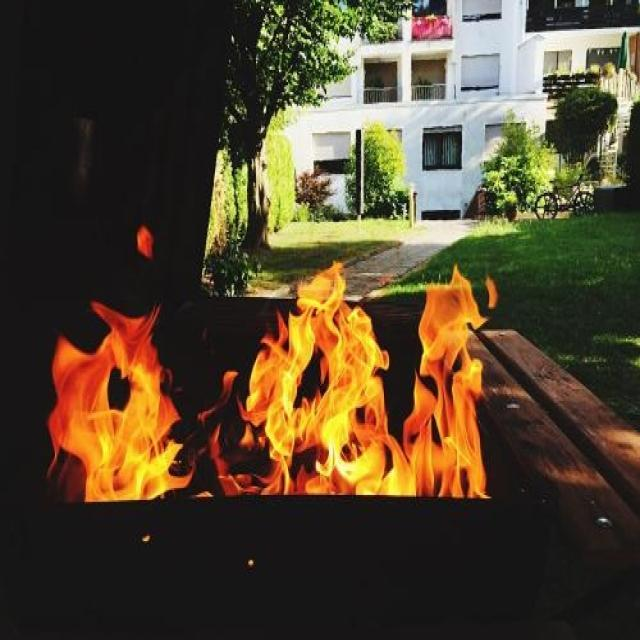Fire: (44, 224, 500, 502)
